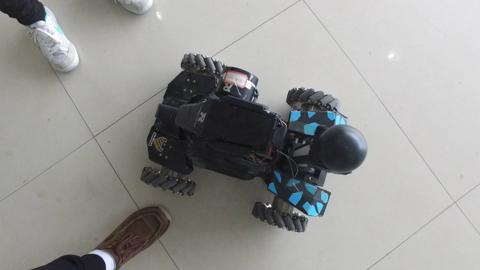chariot: (129, 43, 380, 235)
